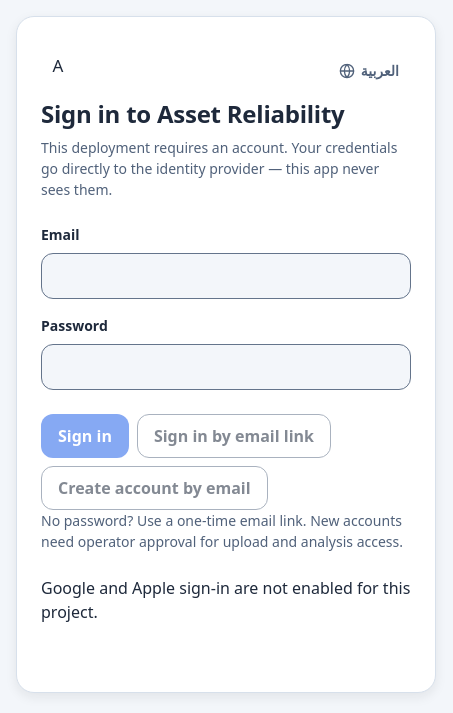
managed SignIn › rejects unsuccessful responses (true)
The width and height of the screenshot is (453, 713).
Type "analyst@example.com" into the field labelled "Email" at (226, 276), box [41,252,411,298]
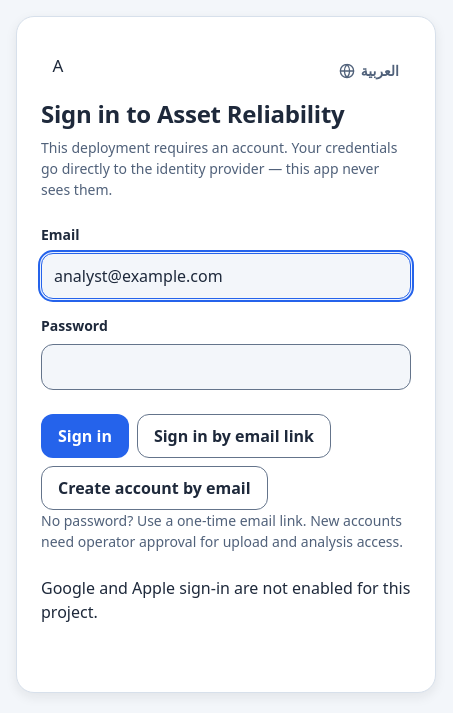
Click the button "Sign in" at (85, 436), box [41,414,129,458]
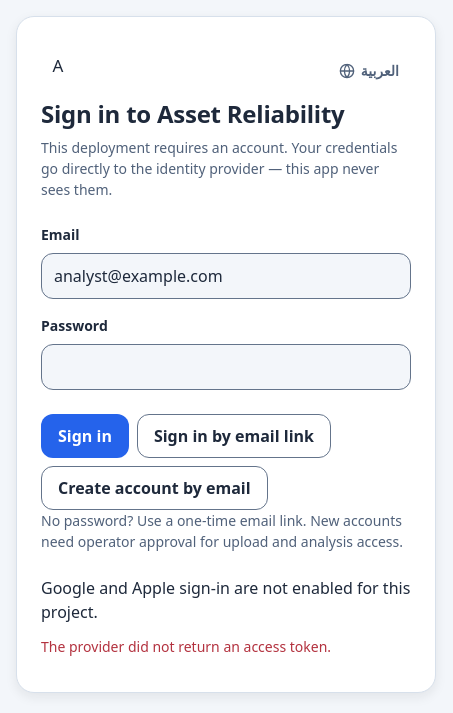
Now the text "The provider did not return an access token." is shown, box [41,636,331,656]
